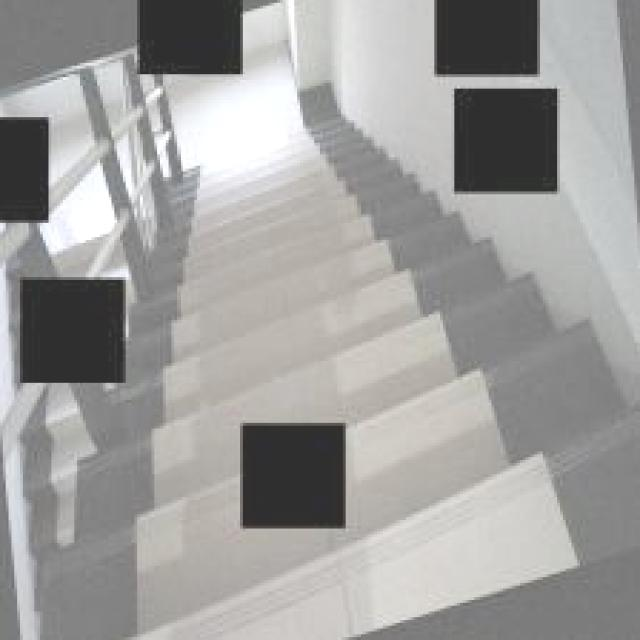downstair: (172, 101, 441, 395)
